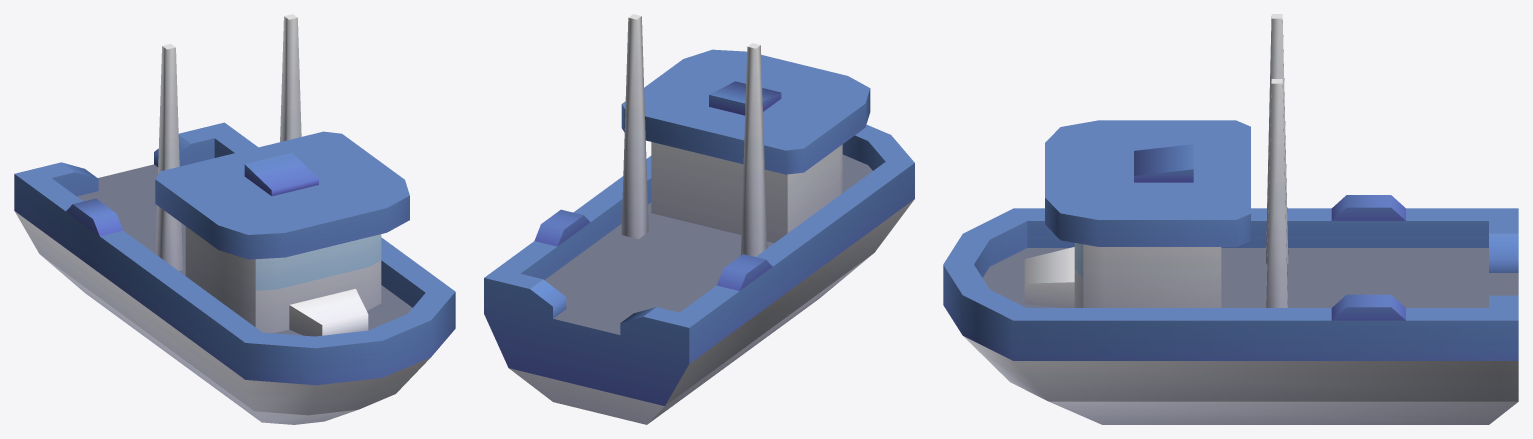
Rendered from k-watercraft-boat-fishing-small.glb.
The picture shows the model from 3 angles, left to right: view 1: azimuth 30°, elevation 25°; view 2: azimuth 150°, elevation 25°; view 3: azimuth 270°, elevation 25°; orthographic projection. The views are drawn at different scales.
Parts seen in each view (by area): view 1: boat-fishing-small; view 2: boat-fishing-small; view 3: boat-fishing-small.
Part boxes in pixels (bbox=[...]): boat-fishing-small: bbox=[14, 14, 455, 424]; boat-fishing-small: bbox=[484, 14, 914, 424]; boat-fishing-small: bbox=[943, 14, 1518, 424].
Size of the model in its own units: 1.78 by 2.6 by 3.87.
1 material, 1 textured.
